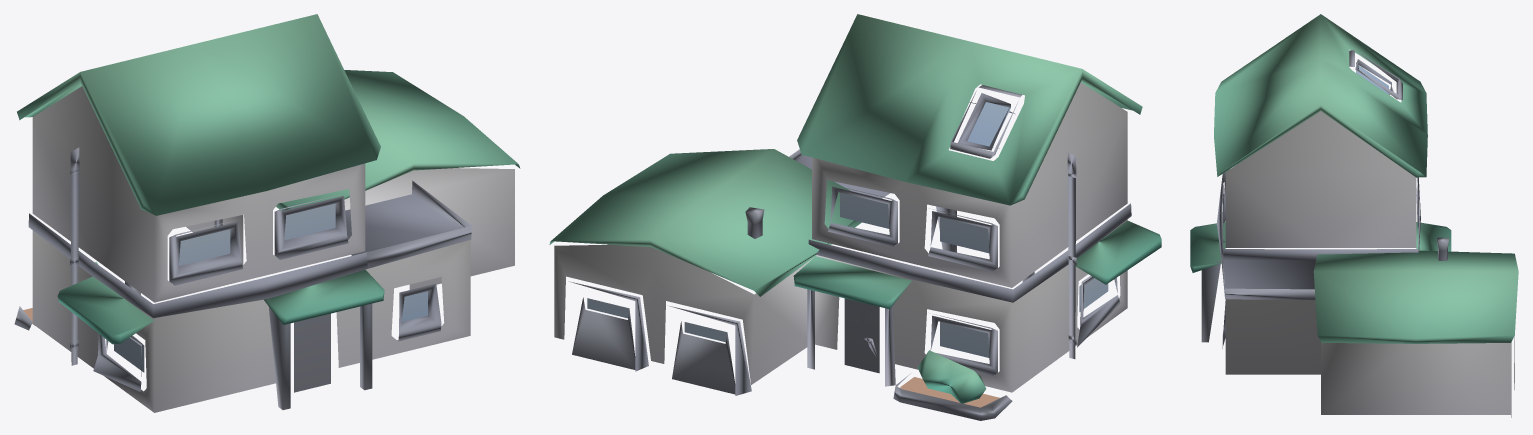
3 views of the same model, side by side, from view 1: azimuth 30°, elevation 25°; view 2: azimuth 150°, elevation 25°; view 3: azimuth 270°, elevation 25° (orthographic). The views are drawn at different scales.
Size of the model in its own units: 14.27 by 9.1 by 11.02.
